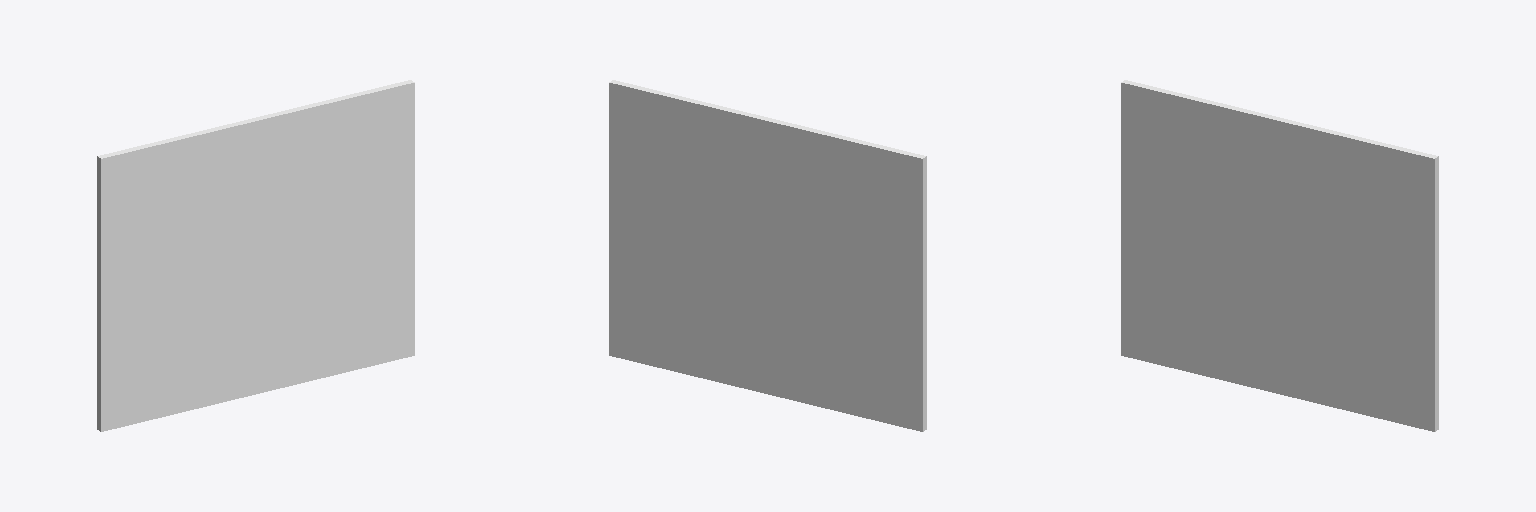
File: Interior_Furniture_Misc_Wall.obj
3 views of the same model, side by side, from view 1: azimuth 30°, elevation 25°; view 2: azimuth 150°, elevation 25°; view 3: azimuth 330°, elevation 25° (orthographic).
Visible parts, largest first — view 1: object 1; view 2: object 1; view 3: object 1.
Part boxes in pixels (x1,y1,x2,y2): object 1: (97, 80, 414, 431); object 1: (609, 80, 926, 431); object 1: (1121, 80, 1438, 431).
Bounding box in the file's own units: 4.8 × 4 × 0.1.